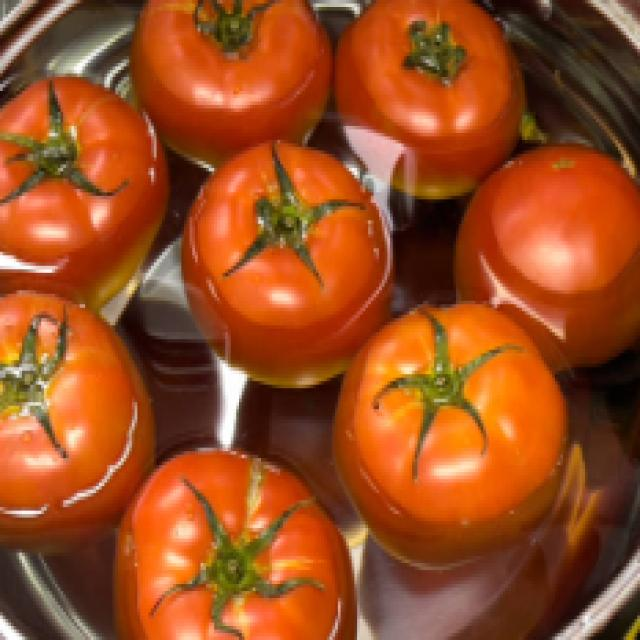Tomato: (336, 296, 577, 556), (175, 152, 416, 379), (118, 461, 377, 640), (339, 2, 532, 194)
